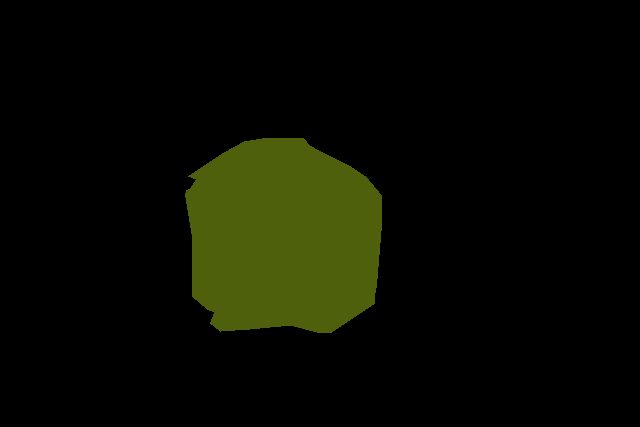Train: (185, 138, 382, 332)
